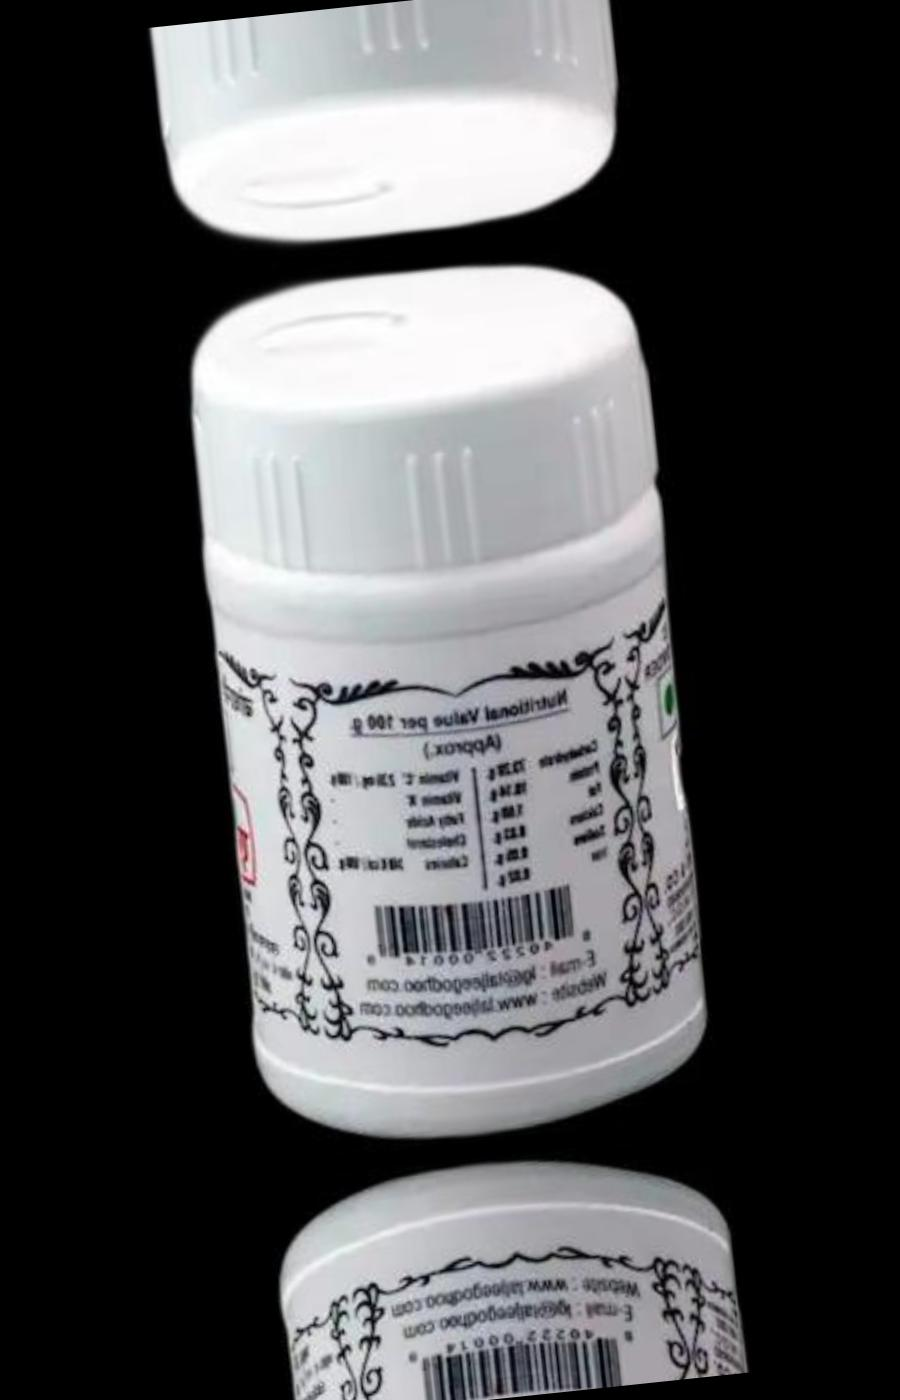LG Compounded Hing Powder 50 g: (159, 242, 733, 1157), (131, 0, 639, 263), (253, 1138, 761, 1400)
